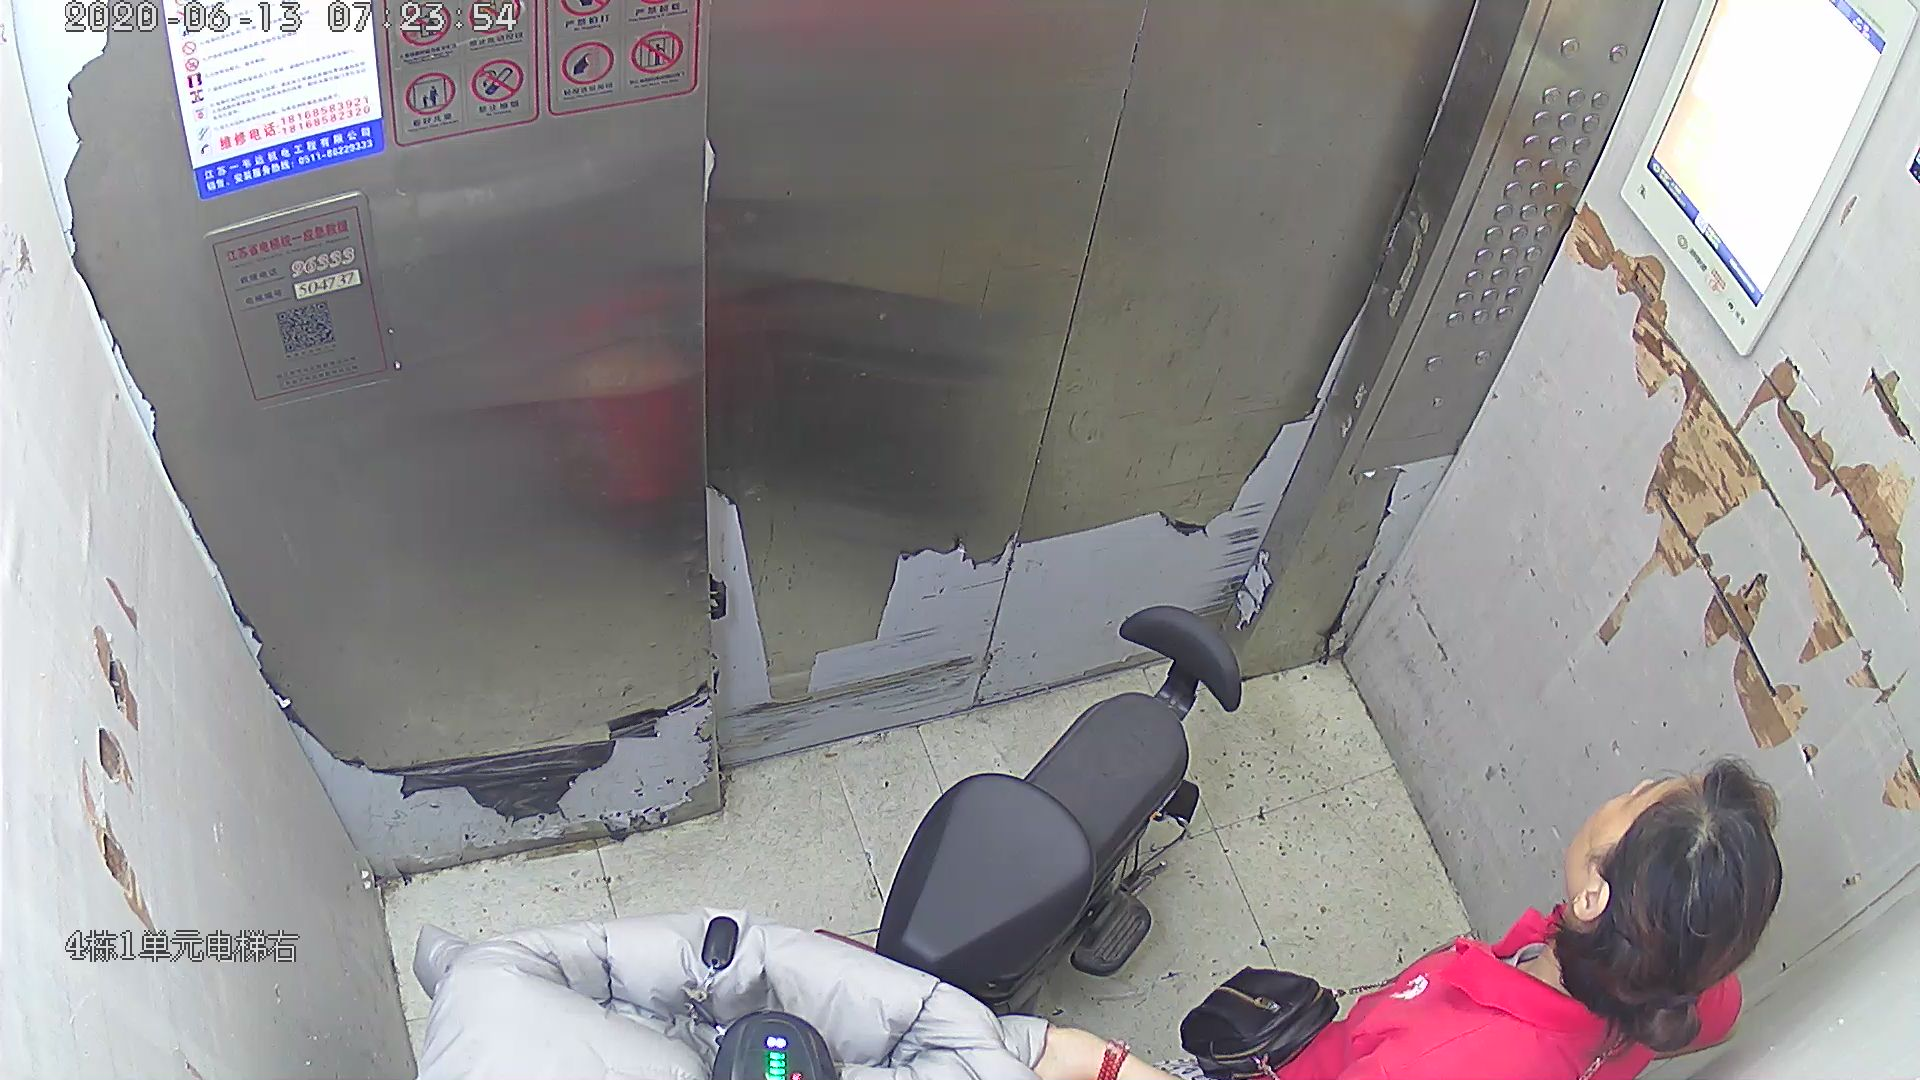Electric-bicycle: (450, 603, 1236, 1080)
